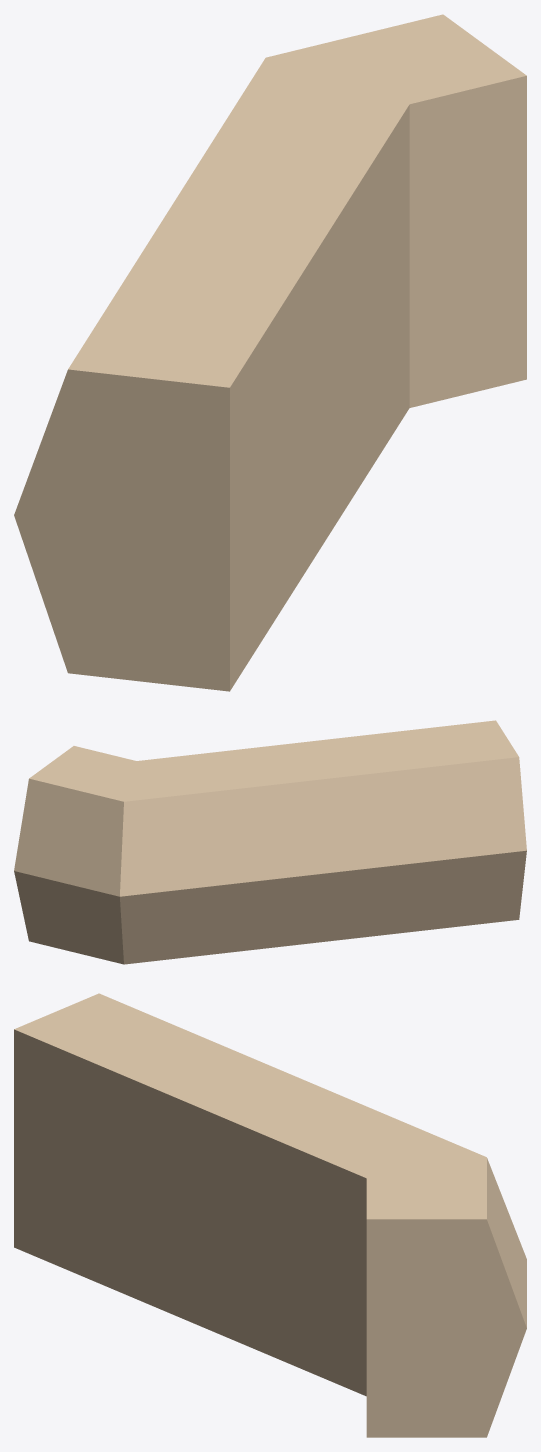
The picture shows the model from 3 angles, top to bottom: view 1: azimuth 30°, elevation 25°; view 2: azimuth 150°, elevation 25°; view 3: azimuth 270°, elevation 25°; orthographic projection. The views are drawn at different scales.
Parts seen in each view (by area): view 1: object1.009; view 2: object1.009; view 3: object1.009.
Boxes of the visible parts, x1=… form: object1.009: x1=14, y1=14, x2=526, y2=691; object1.009: x1=14, y1=720, x2=526, y2=964; object1.009: x1=14, y1=993, x2=526, y2=1437.
Bounding box in the file's own units: 0.7021 × 0.3 × 0.6393.
